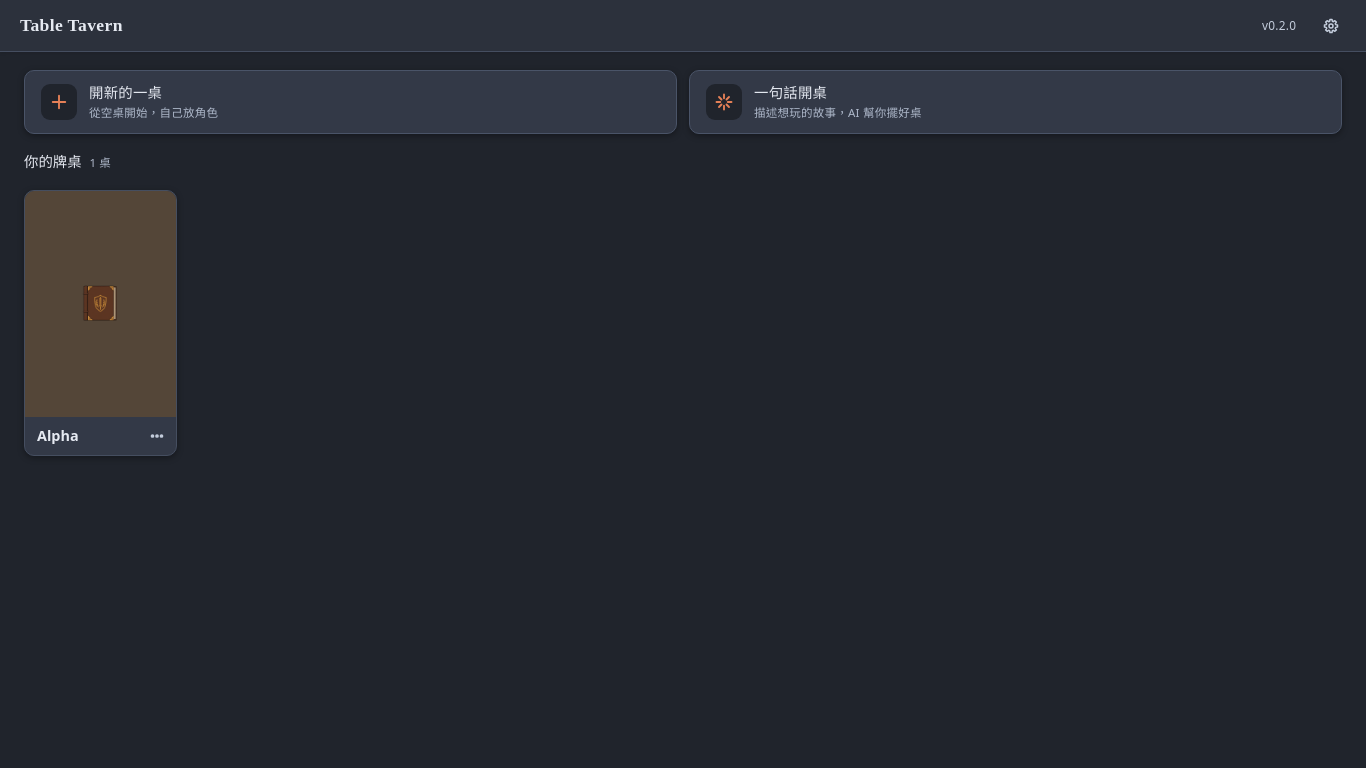
Test: lobby and table navigation › converting the current speaker into a worldbook entry clears it everywhere
Click the button named "進入 Alpha": click(100, 304) [25,191,176,417]
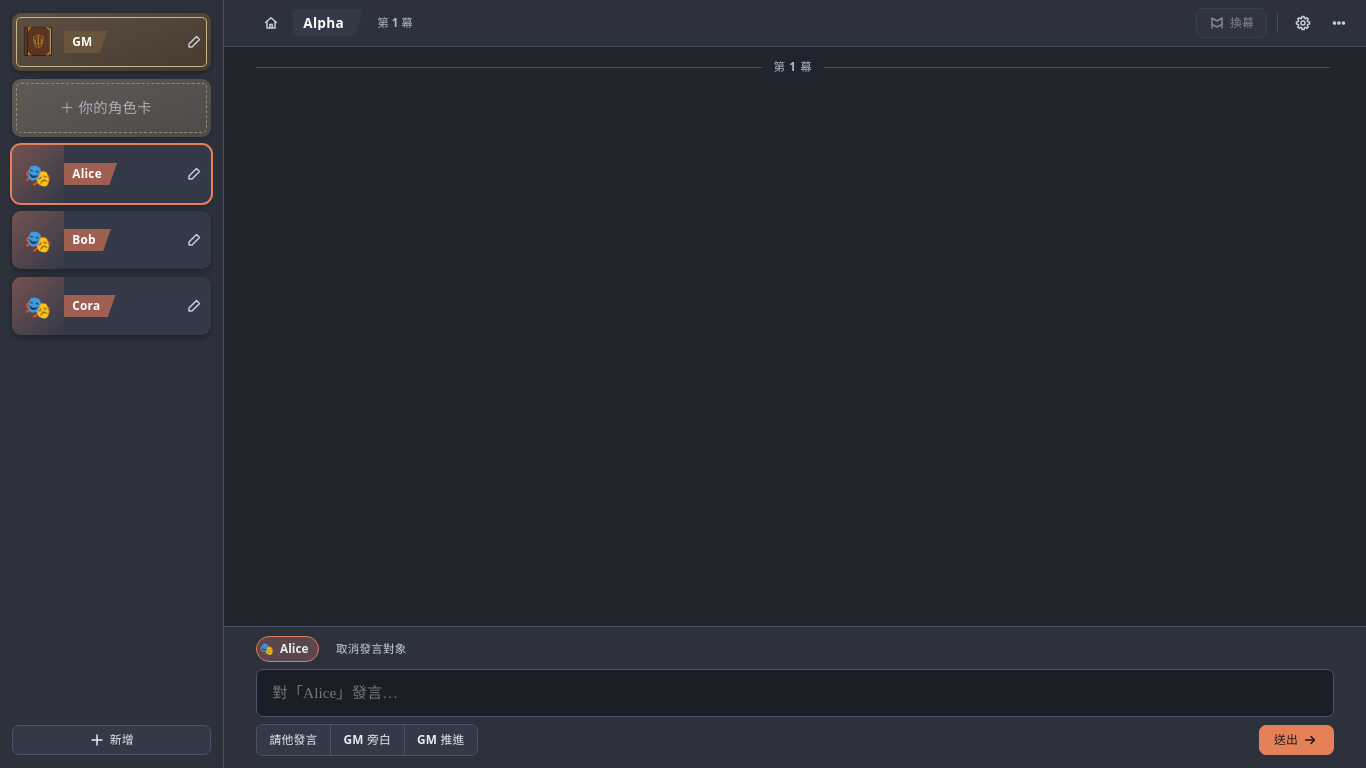
Click the button named "編輯「Alice」角色卡": click(194, 174) [181,161,207,187]
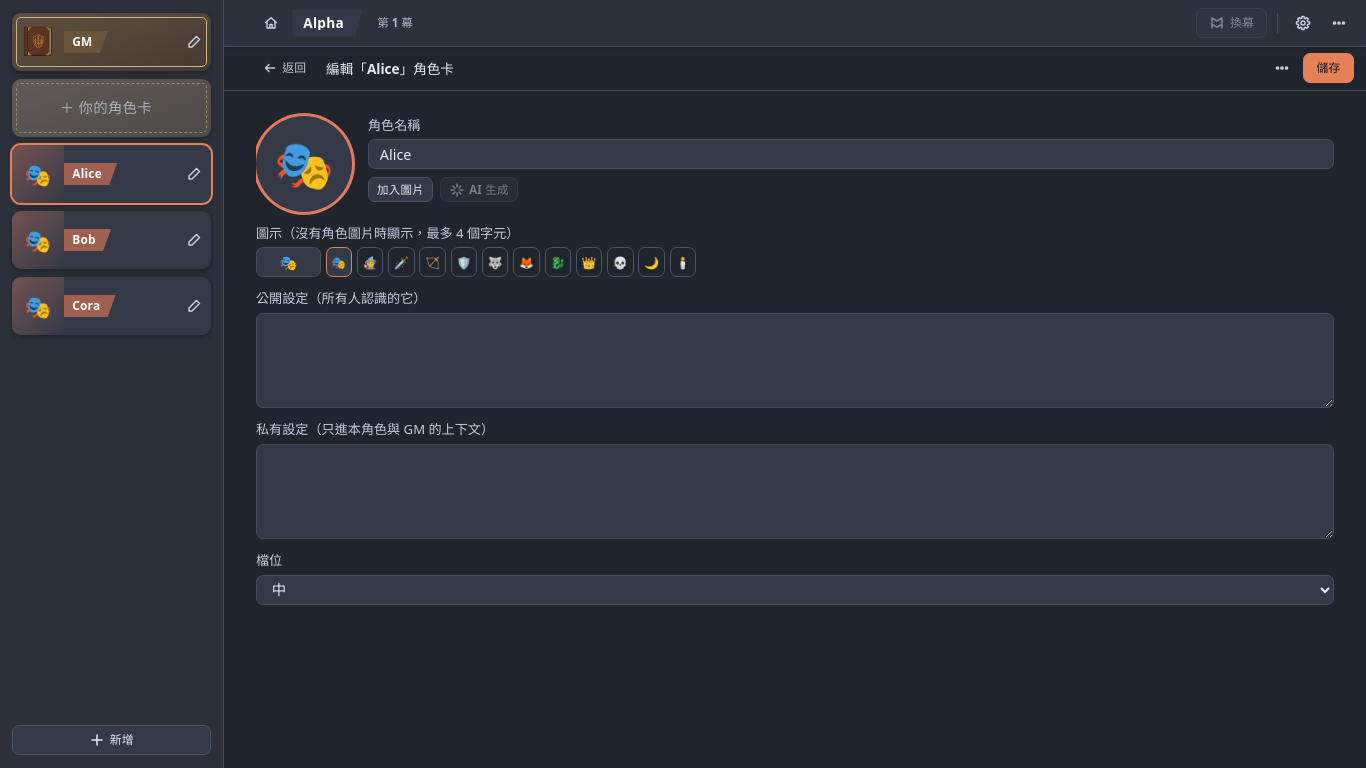
expect the element with class "edit-page" is shown: met
Click the button named "更多操作" in the row of "編輯「Alice」角色卡": click(1282, 68) [1267,53,1297,83]
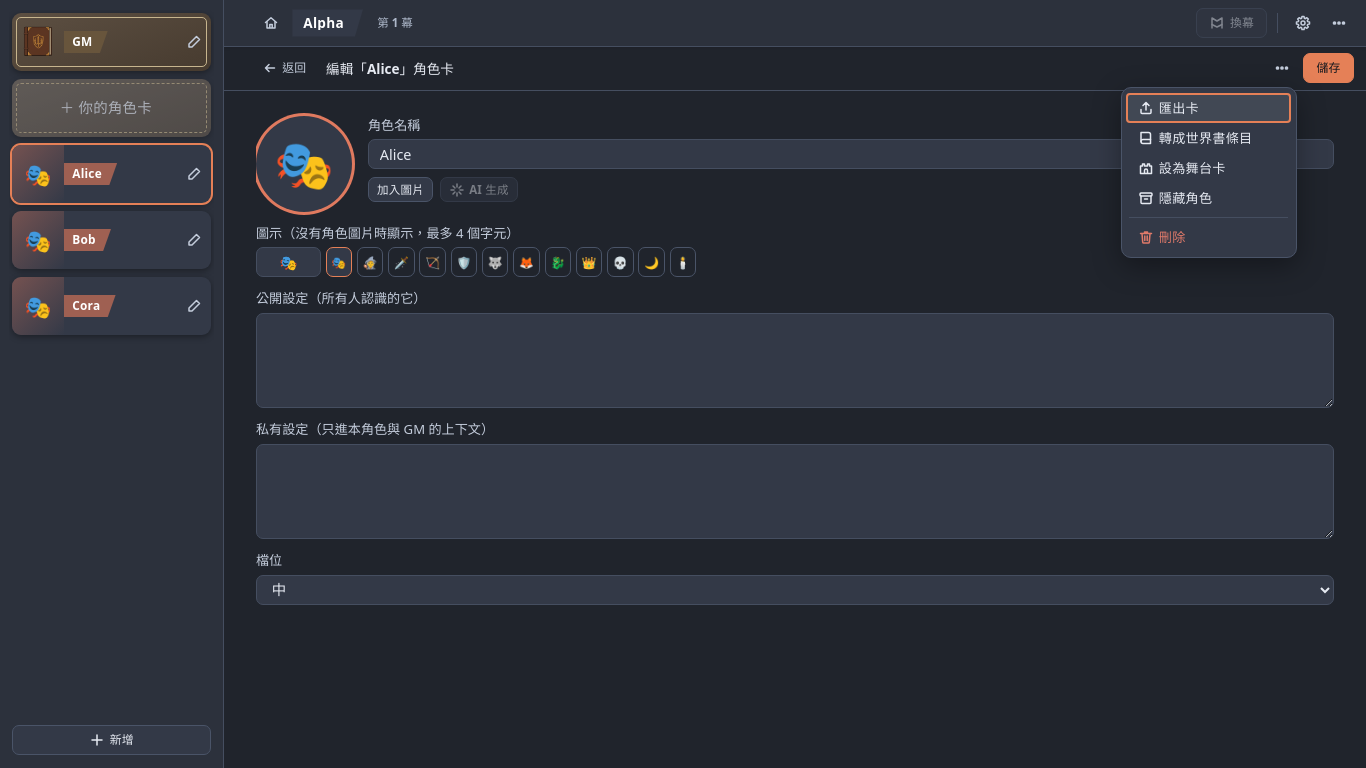
Click the menu item "轉成世界書條目": click(1209, 138) [1126,123,1291,153]
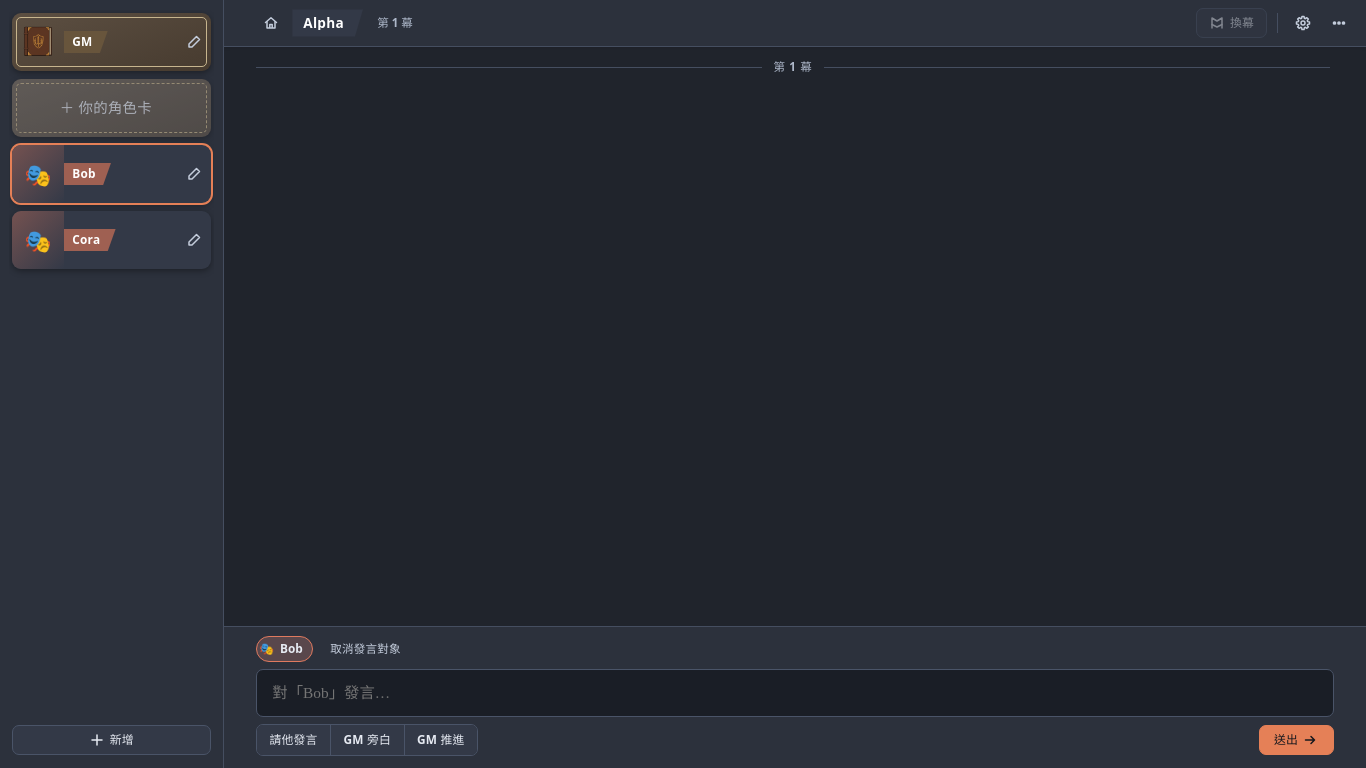
expect the button with class "sidebar" no longer shows "Alice": met
expect the element with class "edit-page" is gone: met
